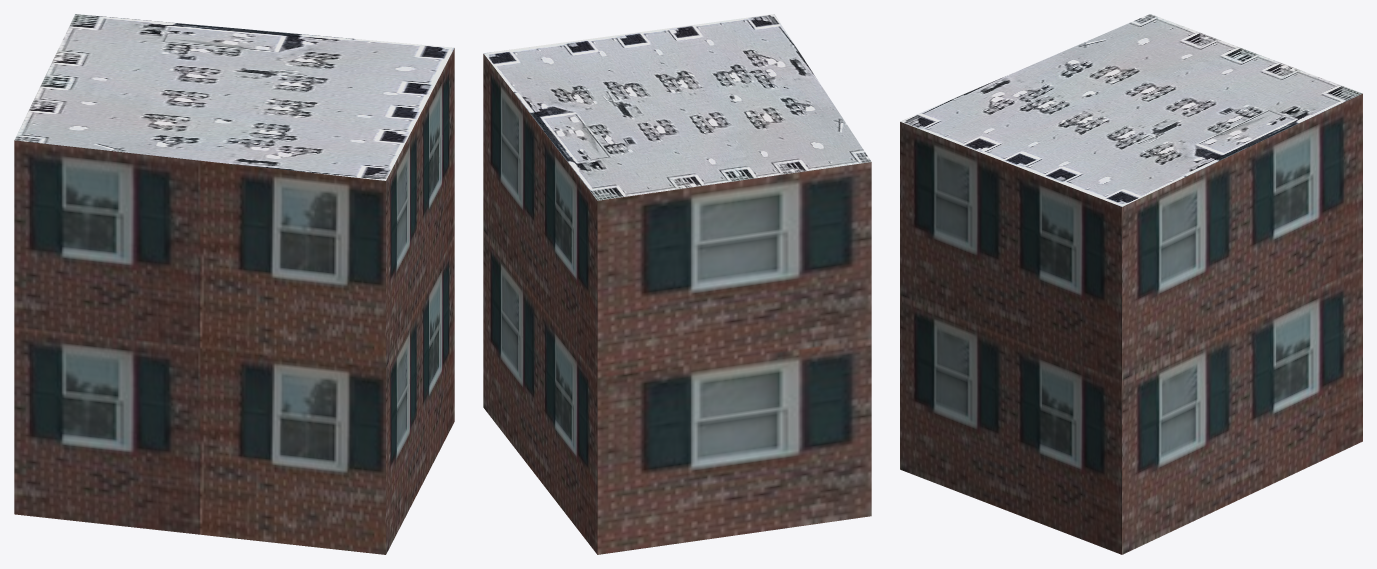
The model's file is ResTex__1604.fbx.
3 views of the same model, side by side, from view 1: azimuth 30°, elevation 25°; view 2: azimuth 150°, elevation 25°; view 3: azimuth 270°, elevation 25° (orthographic). The views are drawn at different scales.
Visible parts, largest first — view 1: CityEngineMaterial_14_m, CityEngineMaterial_2_m; view 2: CityEngineMaterial_14_m, CityEngineMaterial_2_m; view 3: CityEngineMaterial_14_m, CityEngineMaterial_2_m.
Part boxes in pixels (x1=…): CityEngineMaterial_14_m: x1=14, y1=48, x2=454, y2=554; CityEngineMaterial_2_m: x1=14, y1=14, x2=454, y2=180; CityEngineMaterial_14_m: x1=483, y1=54, x2=871, y2=554; CityEngineMaterial_2_m: x1=483, y1=14, x2=871, y2=200; CityEngineMaterial_14_m: x1=900, y1=93, x2=1362, y2=554; CityEngineMaterial_2_m: x1=900, y1=14, x2=1362, y2=206.
Bounding box in the file's own units: 7.14 × 6 × 7.23.
Materials: 2 (2 with a texture image).
